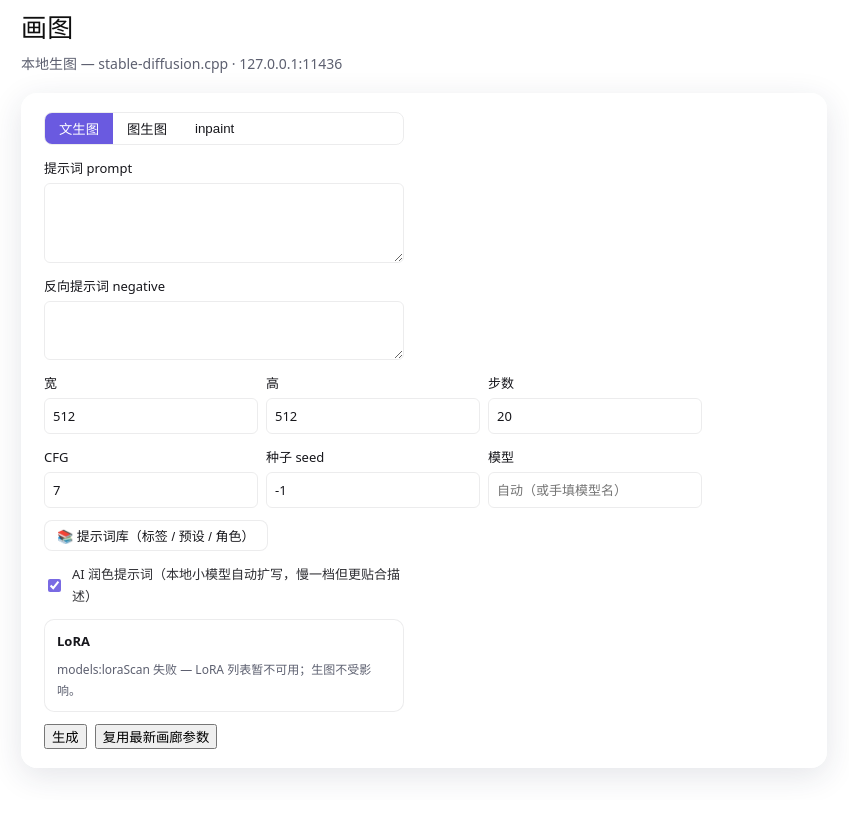
Test: ImagePage — 模式与降级 › txt2img 默认态：无底图区/无强度滑杆；切图生图两者出现；切回消失
Click the button with class "las-img-mode-btn" showing "图生图": (147, 128) [113,113,181,144]
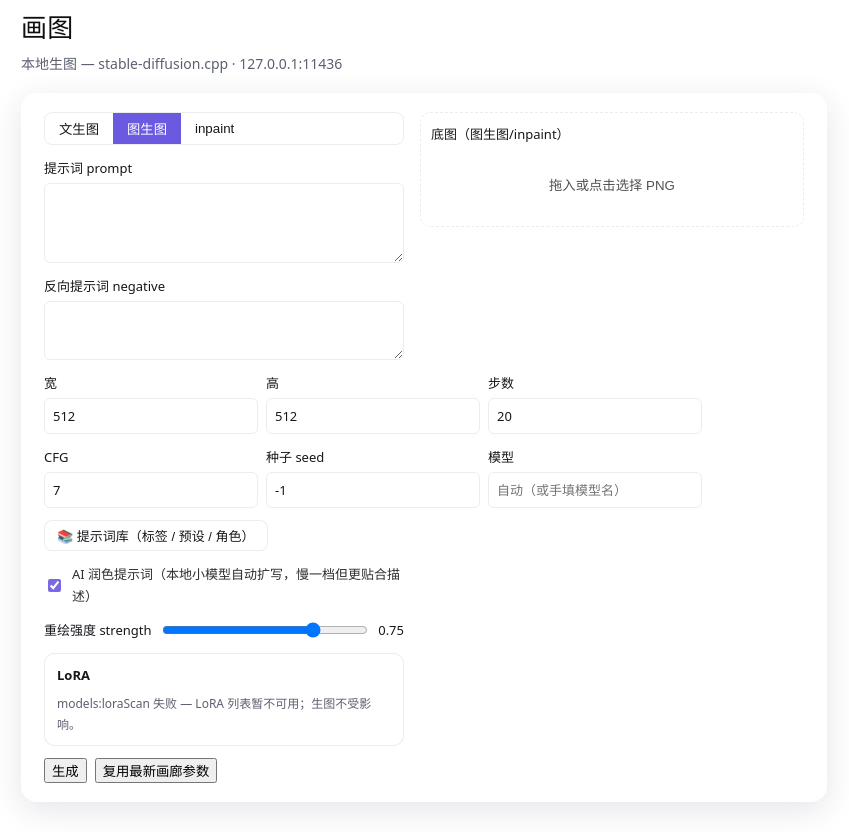
Expected: the element with class "las-img-drop" is shown, [420,112,804,227]
Expected: the text "重绘强度 strength 0.75" is shown, [44,619,404,641]
Click the button with class "las-img-mode-btn" showing "inpaint": (215, 128) [181,113,248,144]
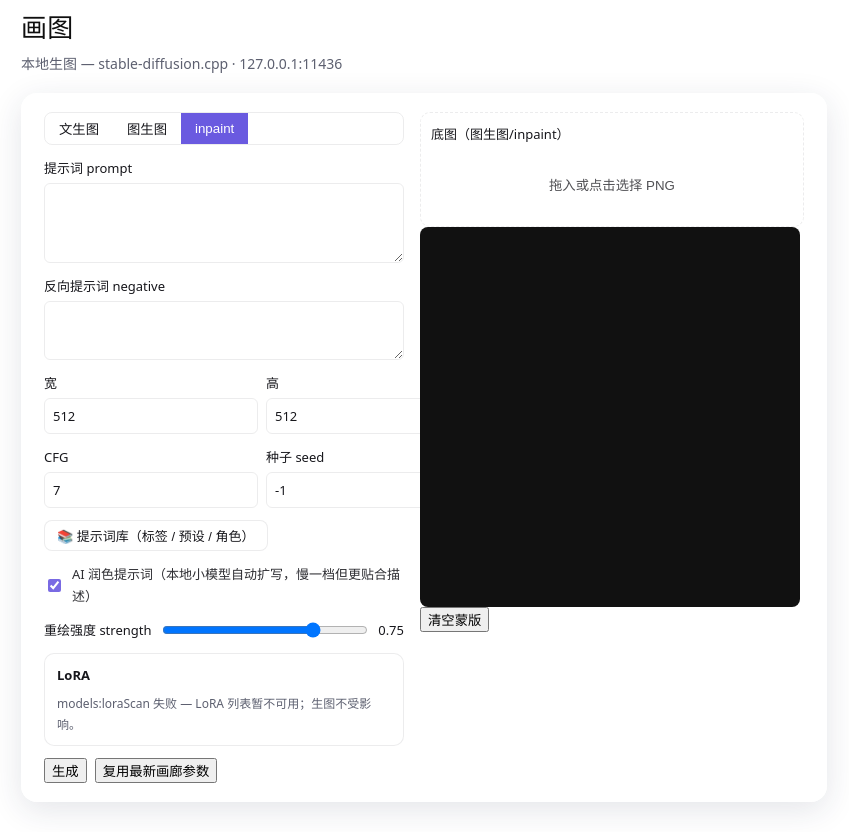
Click the button with class "las-img-mode-btn" showing "文生图": (79, 128) [45,113,113,144]
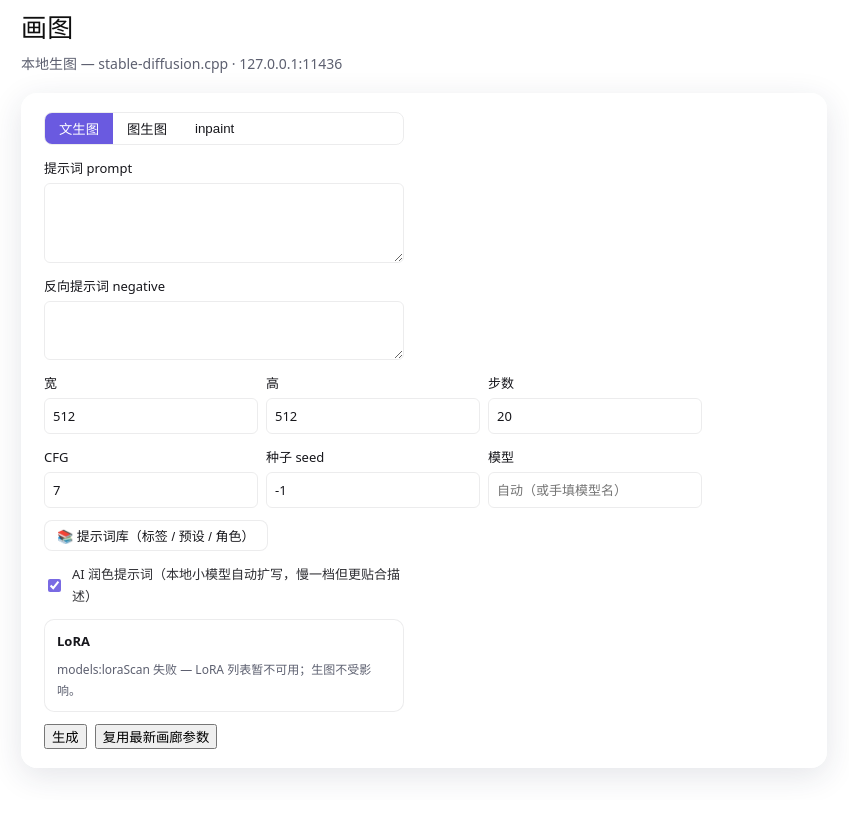
Expected: the element with class "las-img-drop" is gone
